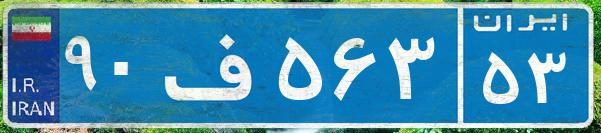0: (110, 28, 158, 105)
3: (385, 28, 445, 110), (525, 38, 570, 115)
5: (273, 28, 330, 110), (475, 38, 525, 113)
6: (330, 28, 385, 110)
9: (57, 26, 110, 107)
ف: (158, 15, 273, 115)
